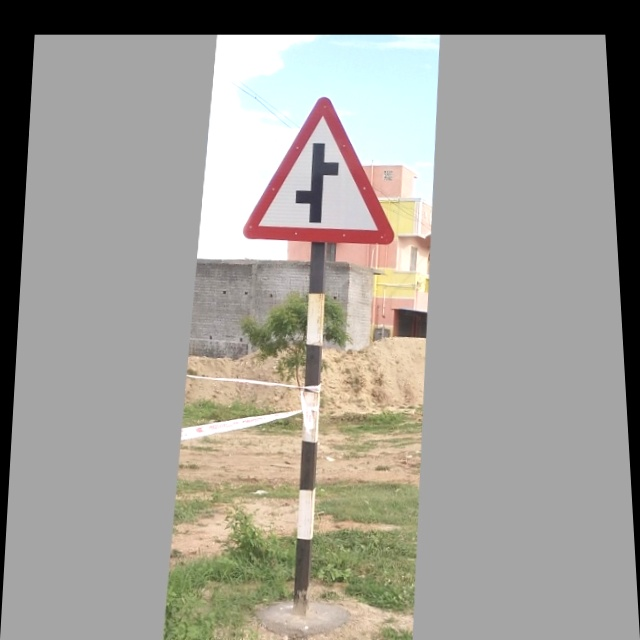Staggered_Intersection: (241, 83, 408, 255)
